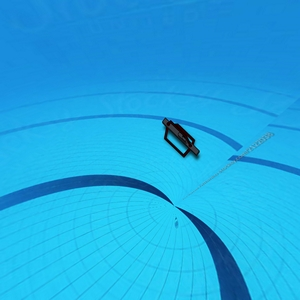submarine: (161, 117, 203, 156)
